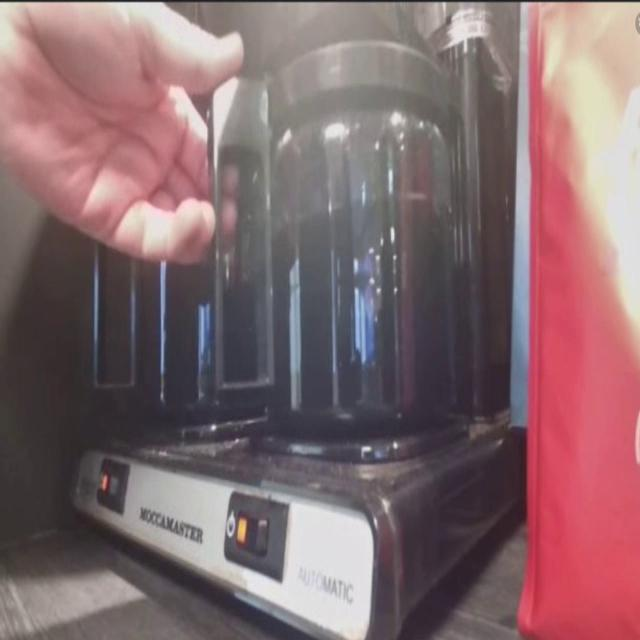coffee: (239, 32, 466, 436), (116, 112, 279, 441)
